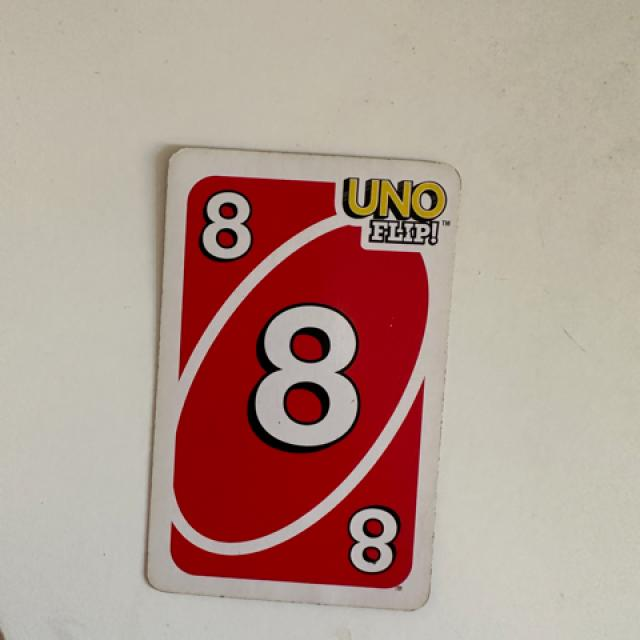lred-8: (182, 161, 274, 283)
